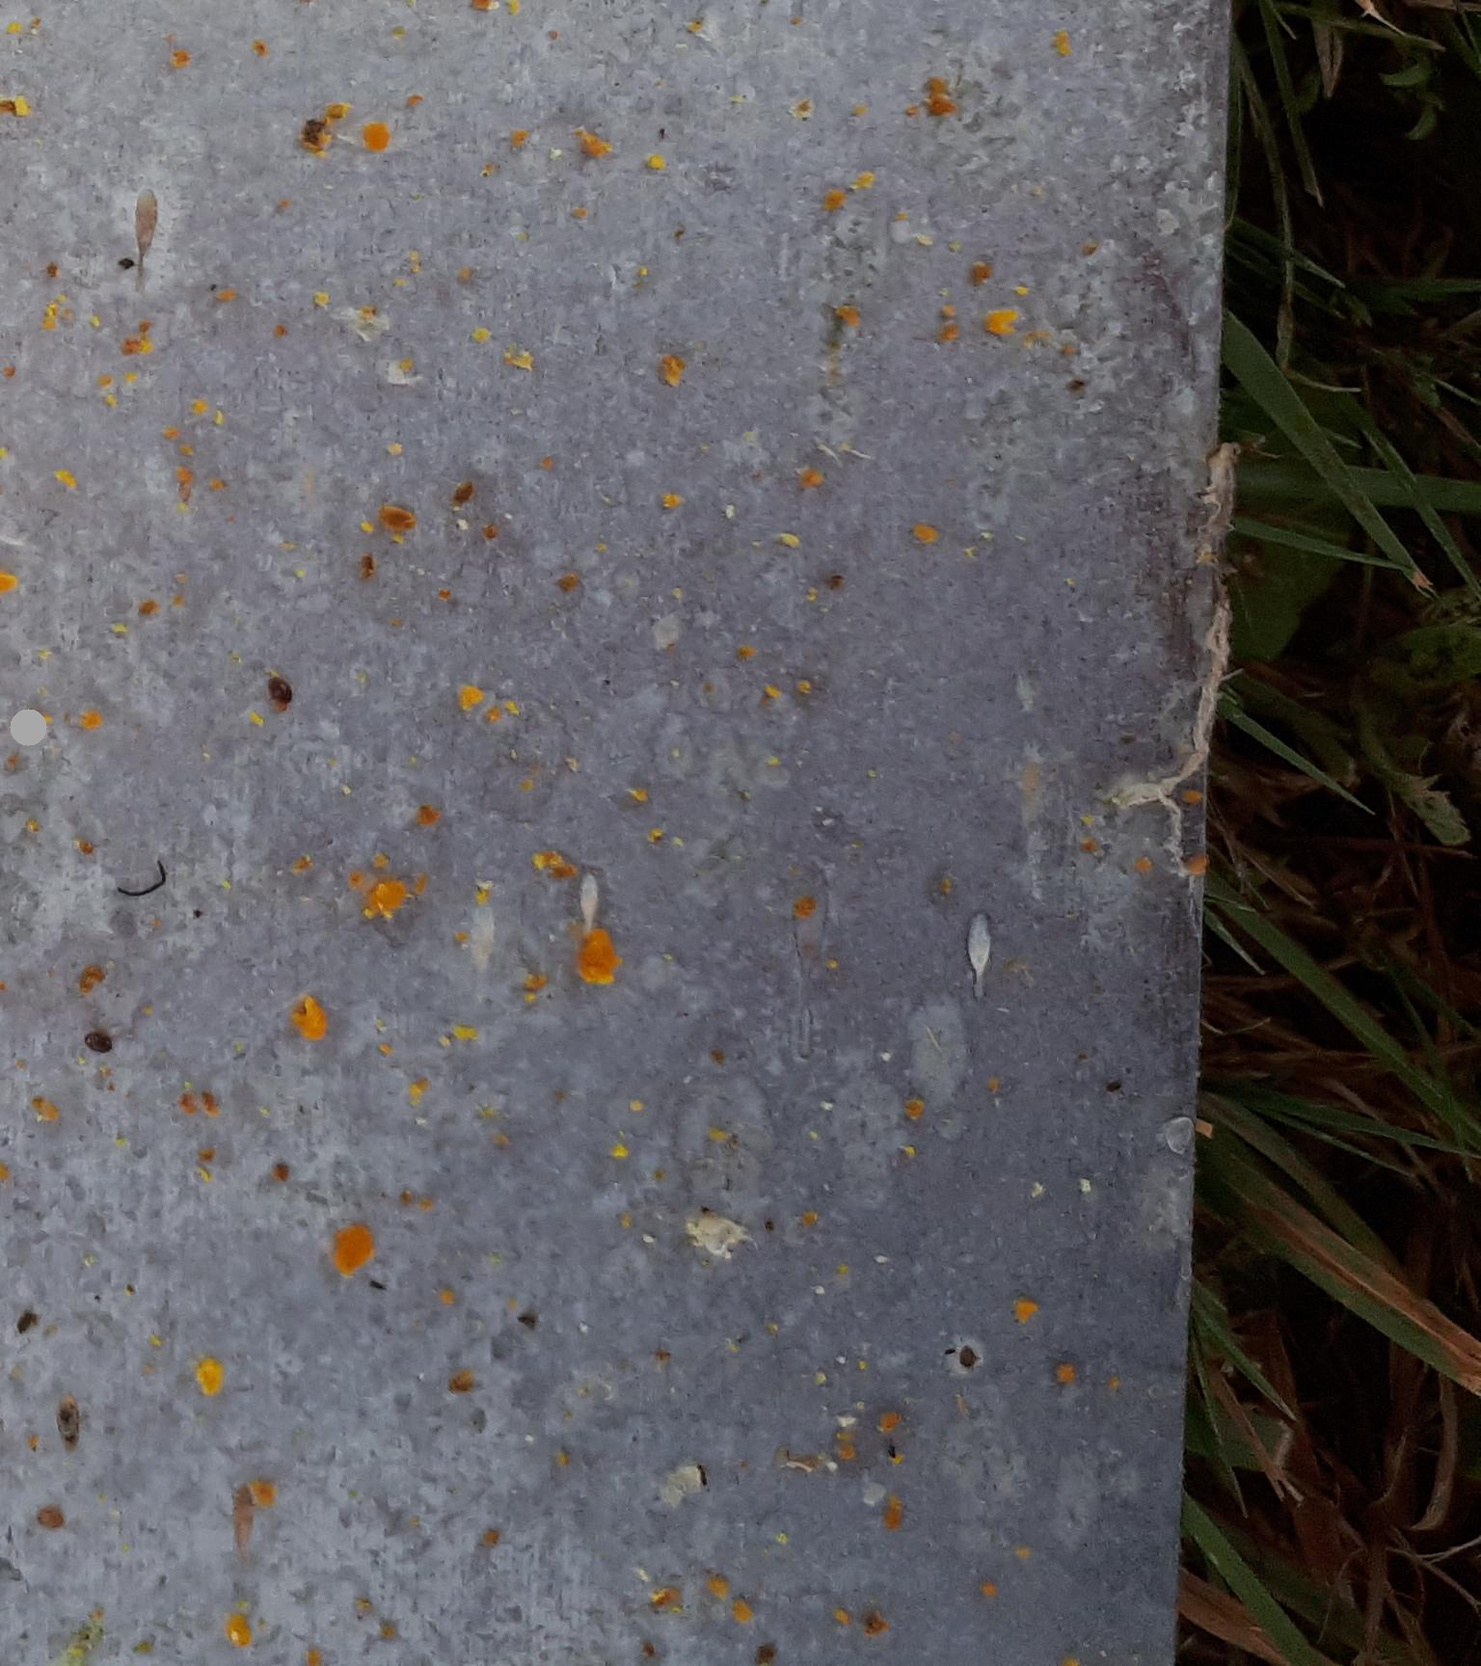Varroa: (264, 674, 294, 704), (79, 1024, 107, 1053)
